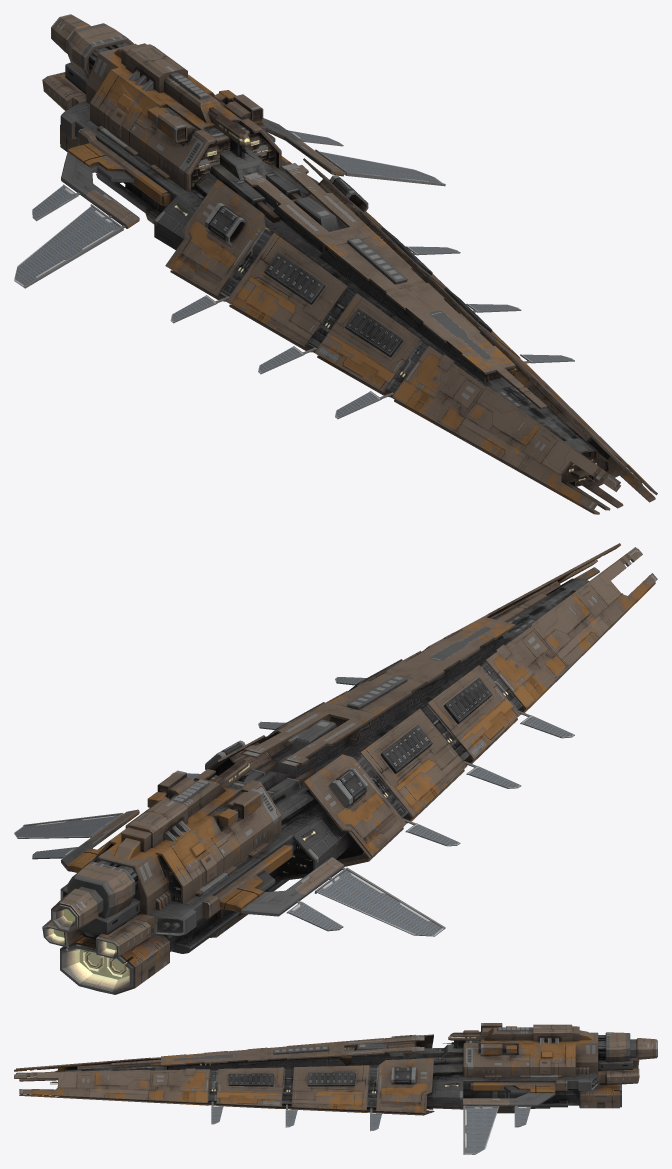
File: 24702_lite.glb
The picture shows the model from 3 angles, top to bottom: view 1: azimuth 30°, elevation 25°; view 2: azimuth 150°, elevation 25°; view 3: azimuth 270°, elevation 25°; orthographic projection. The views are drawn at different scales.
Parts seen in each view (by area): view 1: Mbc2_TShape1.001, solar_plat_no_auto_bake.004, solar_plat_no_auto_bake.005; view 2: Mbc2_TShape1.001, solar_plat_no_auto_bake.004, solar_plat_no_auto_bake.005; view 3: Mbc2_TShape1.001, solar_plat_no_auto_bake.005.
Part boxes in pixels (box(x1,y1,x2,y2)): Mbc2_TShape1.001: box(23, 14, 657, 514); solar_plat_no_auto_bake.004: box(14, 185, 379, 418); solar_plat_no_auto_bake.005: box(289, 130, 573, 361); Mbc2_TShape1.001: box(23, 543, 657, 994); solar_plat_no_auto_bake.004: box(288, 715, 574, 936); solar_plat_no_auto_bake.005: box(14, 677, 366, 859); Mbc2_TShape1.001: box(14, 1023, 657, 1154); solar_plat_no_auto_bake.005: box(211, 1106, 530, 1154).
Bounding box in the file's own units: 2.09 × 0.6935 × 4.86.
Materials: 3 (3 with a texture image).
